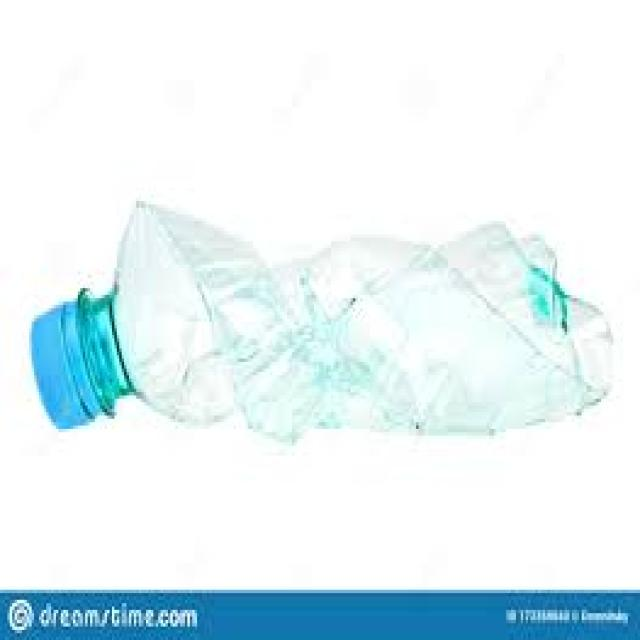plastic: (32, 201, 608, 439)
